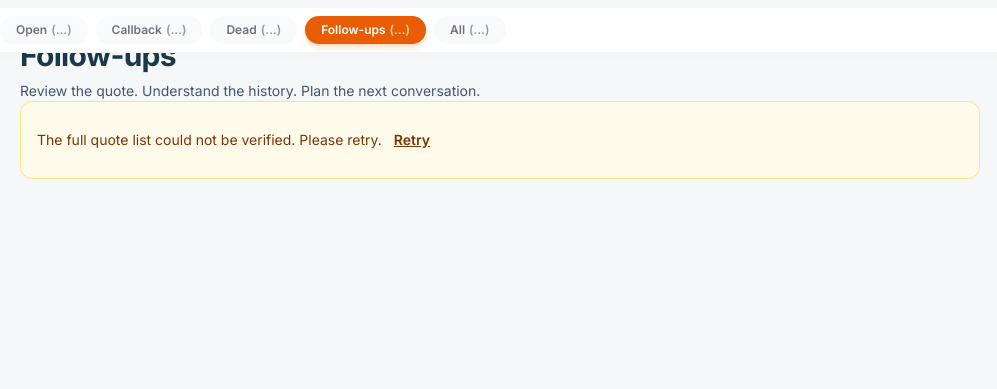
Test: offers retry when loading fails without showing a false empty queue
expect the message "The full quote list could not be verified. Please retry. Retry" is shown: met, box [20, 101, 980, 179]
Step 1. Click the button "Retry" → (412, 140), box [386, 118, 438, 162]
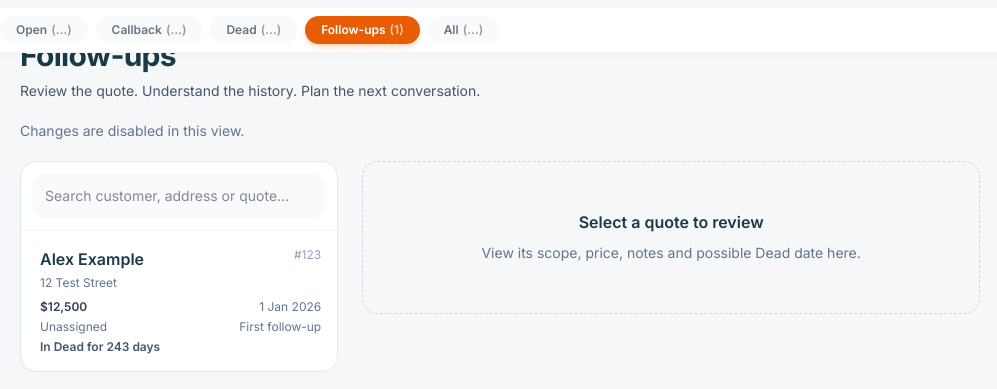
expect the button "Alex Example" is shown: met, box [21, 231, 337, 371]
expect the message "The full quote list could not be verified. Please retry. Retry" is gone: met
